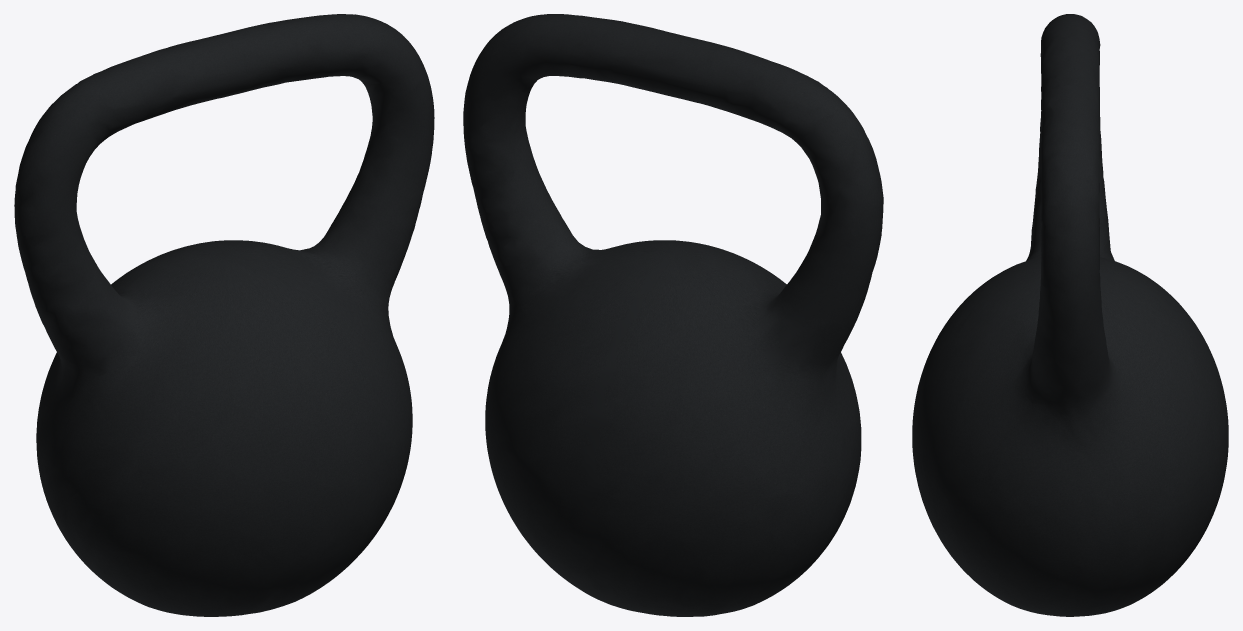
The model's file is kettlebell.glb.
3 renders of one model, left to right at view 1: azimuth 30°, elevation 25°; view 2: azimuth 150°, elevation 25°; view 3: azimuth 270°, elevation 25°, orthographic. The views are drawn at different scales.
Parts seen in each view (by area): view 1: KettlebellBody, KettlebellHandle; view 2: KettlebellBody, KettlebellHandle; view 3: KettlebellBody, KettlebellHandle.
Part boxes in pixels (left/top/right/bottom): KettlebellBody: left=36, top=240, right=412, bottom=616; KettlebellHandle: left=14, top=14, right=434, bottom=373; KettlebellBody: left=485, top=240, right=861, bottom=615; KettlebellHandle: left=463, top=14, right=883, bottom=371; KettlebellBody: left=912, top=253, right=1228, bottom=616; KettlebellHandle: left=1021, top=14, right=1120, bottom=407.
Size of the model in its own units: 0.2836 by 0.3588 by 0.2.
Materials: 3 (3 with a texture image).
